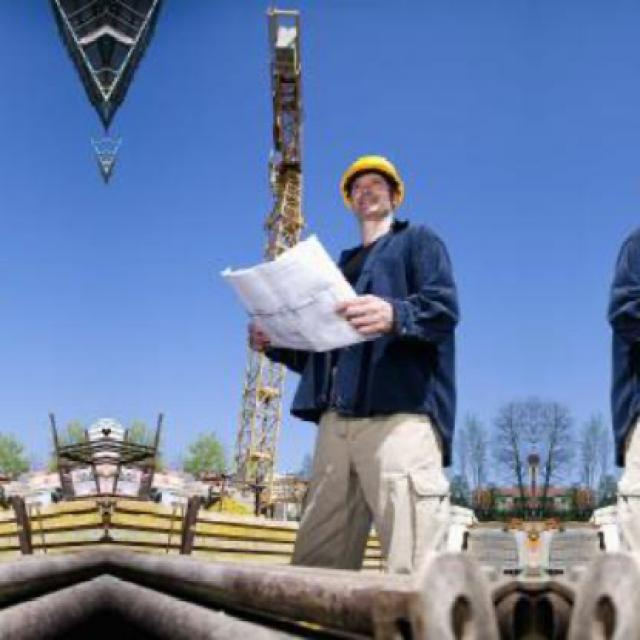helmet: (333, 142, 418, 236)
